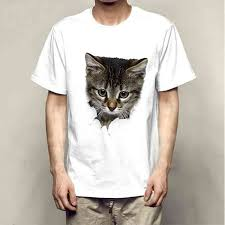cat: (76, 48, 151, 122)
